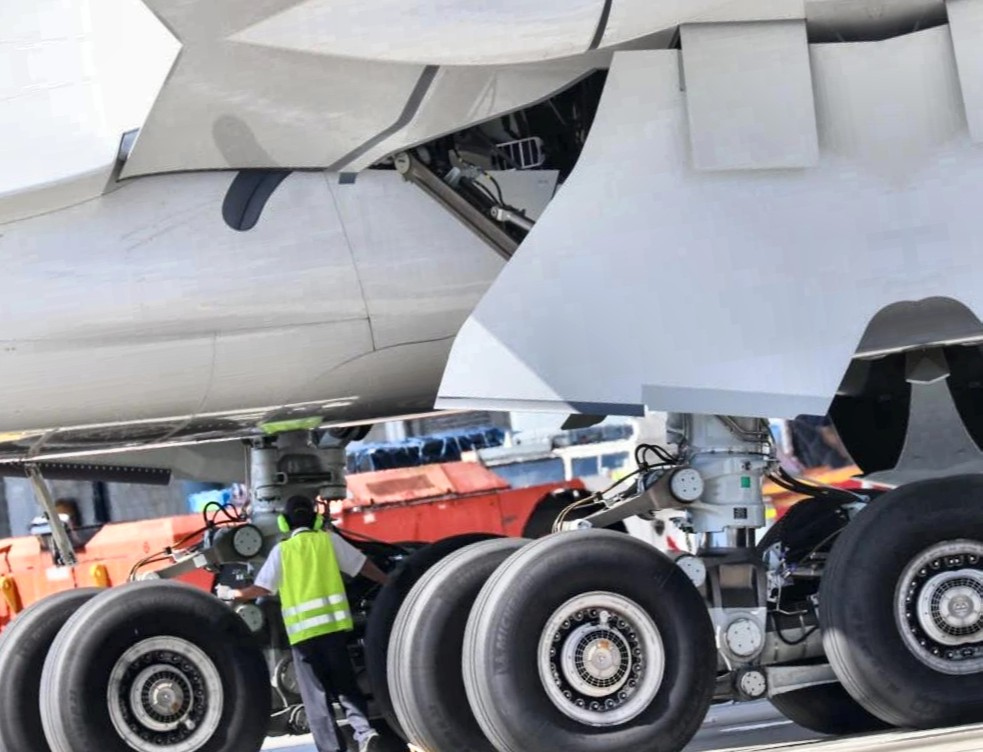wheel: (433, 508, 732, 752), (23, 561, 287, 752), (364, 527, 587, 752), (738, 481, 926, 745), (795, 476, 977, 736), (0, 581, 145, 752), (516, 484, 612, 545)
